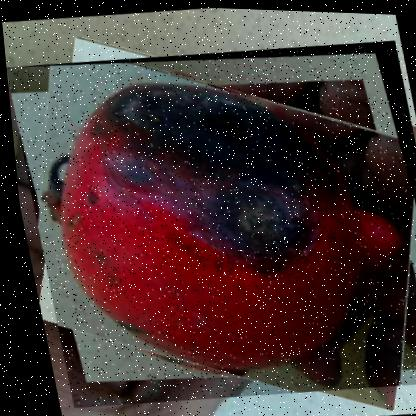pomegranate_rotten: (1, 23, 415, 415)
